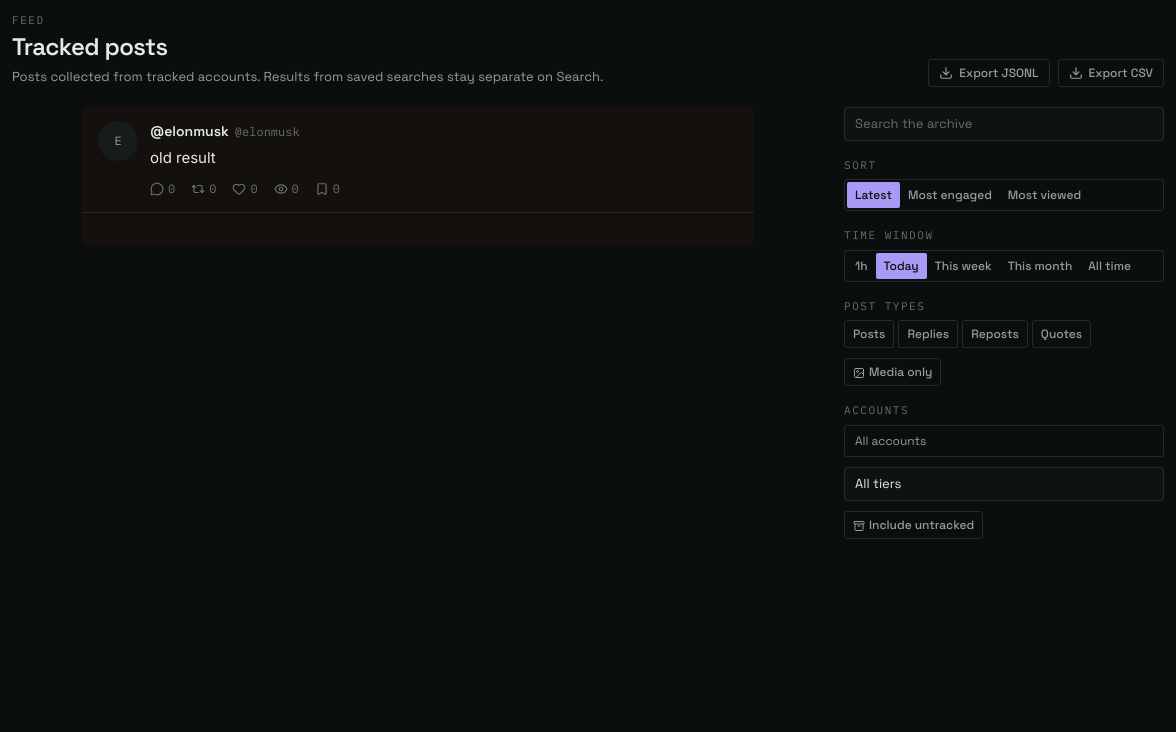
Test: Feed content filters › replaces rather than appends results when a filter changes
Expected: the text "old result" is shown, 150,148 -> 216,166
Click the button "This week".
click(963, 266)  # box 927,252 -> 1000,278
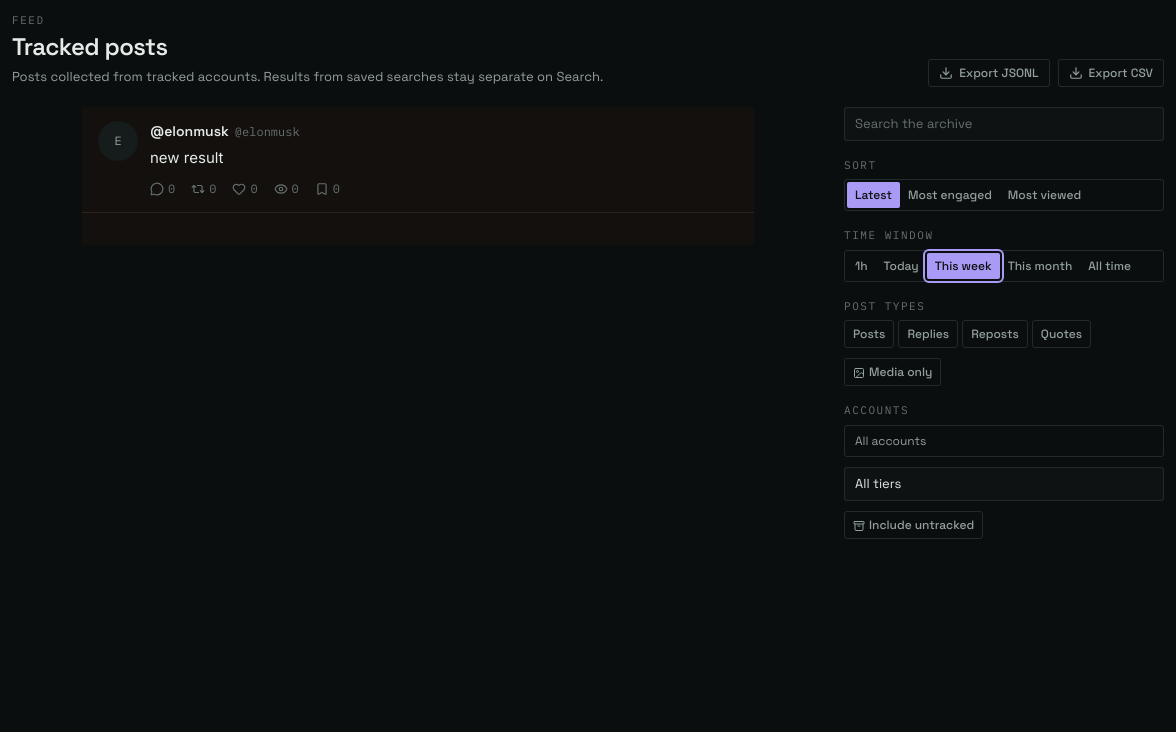
Now the text "new result" is shown, box 150,148 -> 224,166
Now the text "old result" is gone
